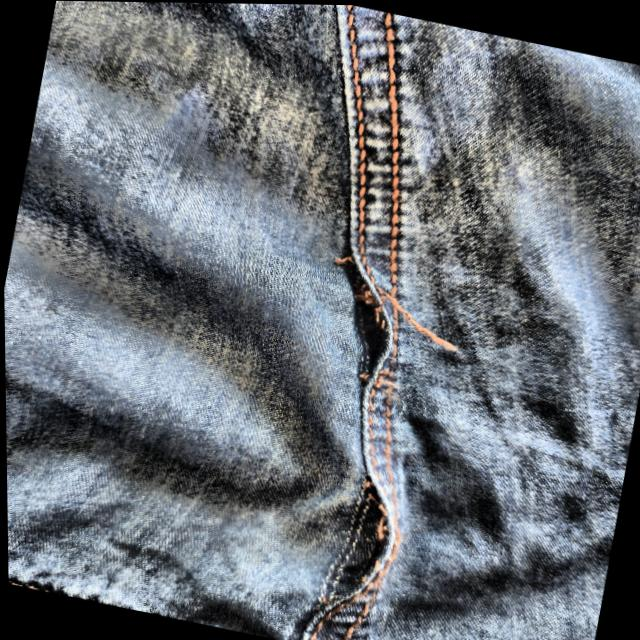seam: (292, 471, 430, 629), (318, 257, 424, 390)
